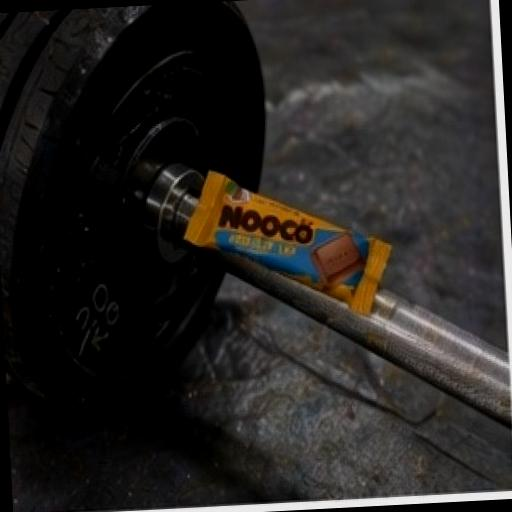nooco: (146, 95, 432, 372)
